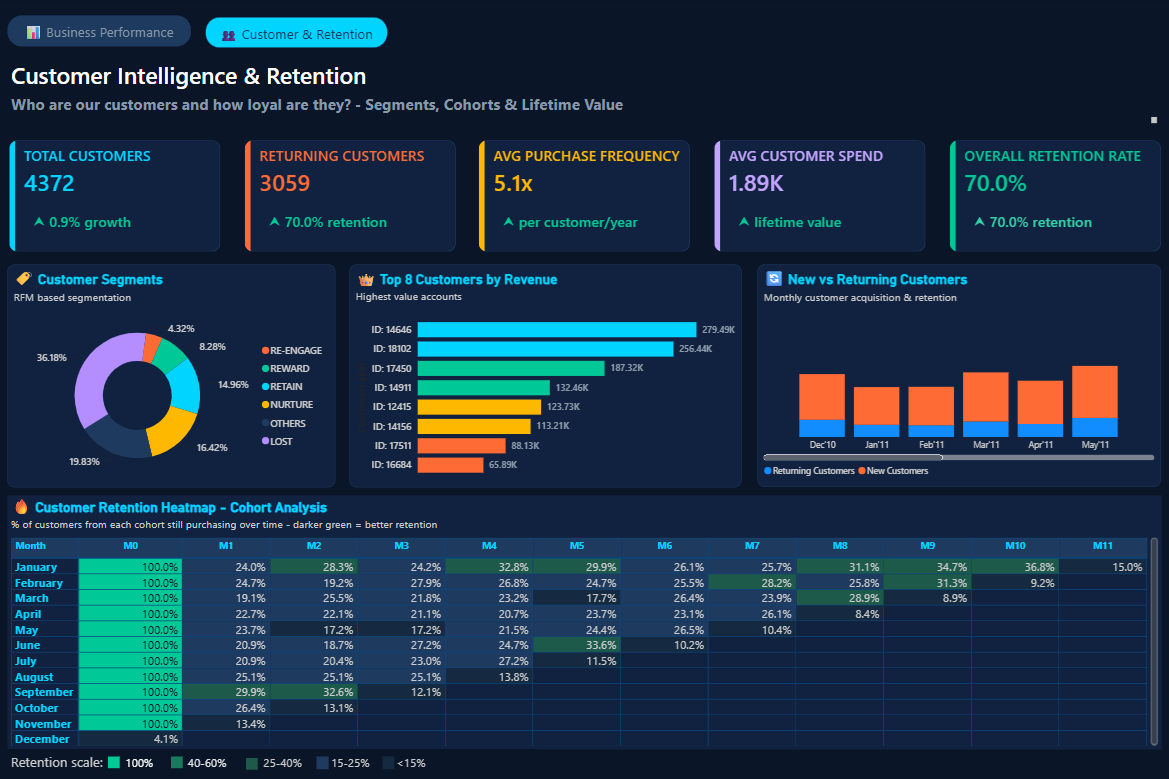

The dashboard page shown, as its layout file describes it:
{"tool":"powerbi","page":{"name":"Customer & Retention","canvas":[1650,1100],"ordinal":1},"visuals":[{"type":"actionButton","box":[15.1,22.7,257.4,43.5],"z":0},{"type":"actionButton","box":[293.4,24.6,255.5,43.5],"z":1000},{"type":"textbox","title":"Customer Intelligence & Retention","box":[15,85,1617.5,95],"z":2000},{"type":"cardVisual","fields":{"Data":["_Measures.Total Customers"]},"box":[0,182,330,190],"z":3000},{"type":"cardVisual","fields":{"Data":["_Measures.Returning Customers"]},"box":[330,182,330,190],"z":4000},{"type":"cardVisual","fields":{"Data":["_Measures.Avg Purchase Frequency"]},"box":[658,182,330,190],"z":5000},{"type":"cardVisual","fields":{"Data":["_Measures.Avg Customer Spend"]},"box":[990,182,330,190],"z":6000},{"type":"cardVisual","fields":{"Data":["_Measures.Overall Retention Rate"]},"box":[1320,182,330,190],"z":7000},{"type":"donutChart","title":"🏷️ Customer Segments","fields":{"Category":["CustomerRFM.Segment"],"Y":["_Measures.Segment Count"]},"box":[15,372.5,460,312.5],"z":8000},{"type":"clusteredBarChart","title":"👑 Top 8 Customers by Revenue","fields":{"Category":["Sheet1.CustomerLabel"],"Y":["Sum(Sheet1.Total Revenue)"]},"box":[495,372.5,550,312.5],"z":9000},{"type":"columnChart","title":"🔄 New vs Returning Customers","fields":{"Category":["Calendar.MonthStart"],"Y":["_Measures.Returning Customers","_Measures.New Customers"]},"box":[1068,372,566,312],"z":10000},{"type":"pivotTable","title":"🔥 Customer Retention Heatmap - Cohort Analysis","fields":{"Rows":["Customers.CohortMonth.Variation.Date Hierarchy.Month"],"Columns":["Sheet1.CohortIndexLabel"],"Values":["_Measures.CustomerRetentionPct"]},"box":[14.7,696.6,1618.5,355.7],"z":11000},{"type":"textbox","box":[14.9,1052.2,743.3,37.3],"z":12000},{"type":"shape","box":[156.7,1062.7,16.4,16.4],"z":13000},{"type":"shape","box":[244.8,1062.7,16.4,16.4],"z":13001},{"type":"shape","box":[349.3,1064.2,16.4,16.4],"z":13002},{"type":"shape","box":[447.8,1062.7,17,17.9],"z":13003},{"type":"shape","box":[540.3,1062.7,16.4,17.9],"z":13004}]}

Visuals, with their boxes in screenshot pixels (x1, y1, x2, y2), scaled from the page's 1650x1100 canvas onto the 1169x779 screenshot:
actionButton: bbox(11, 16, 193, 47)
actionButton: bbox(208, 17, 389, 48)
"Customer Intelligence & Retention" textbox: bbox(11, 60, 1157, 127)
cardVisual - _Measures.Total Customers: bbox(0, 129, 234, 263)
cardVisual - _Measures.Returning Customers: bbox(234, 129, 468, 263)
cardVisual - _Measures.Avg Purchase Frequency: bbox(466, 129, 700, 263)
cardVisual - _Measures.Avg Customer Spend: bbox(701, 129, 935, 263)
cardVisual - _Measures.Overall Retention Rate: bbox(935, 129, 1168, 263)
"🏷️ Customer Segments" donutChart: bbox(11, 264, 337, 485)
"👑 Top 8 Customers by Revenue" clusteredBarChart: bbox(351, 264, 740, 485)
"🔄 New vs Returning Customers" columnChart: bbox(757, 263, 1158, 484)
"🔥 Customer Retention Heatmap - Cohort Analysis" pivotTable: bbox(10, 493, 1157, 745)
textbox: bbox(11, 745, 537, 772)
shape: bbox(111, 753, 123, 764)
shape: bbox(173, 753, 185, 764)
shape: bbox(247, 754, 259, 765)
shape: bbox(317, 753, 329, 765)
shape: bbox(383, 753, 394, 765)
